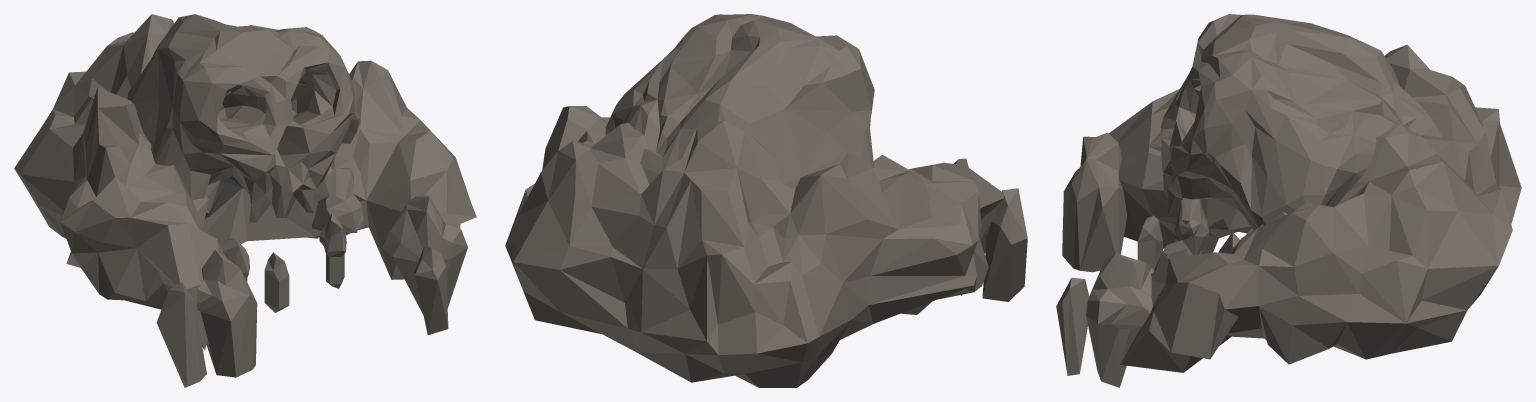
The model's file is SM_Env_Rock_Skull_01.glb.
3 renders of one model, left to right at view 1: azimuth 30°, elevation 25°; view 2: azimuth 150°, elevation 25°; view 3: azimuth 270°, elevation 25°, orthographic. The views are drawn at different scales.
Parts seen in each view (by area): view 1: SM_Env_Rock_Skull_01_part00; view 2: SM_Env_Rock_Skull_01_part00; view 3: SM_Env_Rock_Skull_01_part00.
Boxes of the visible parts, bbox=[...] form: SM_Env_Rock_Skull_01_part00: bbox=[14, 14, 476, 387]; SM_Env_Rock_Skull_01_part00: bbox=[505, 14, 1027, 387]; SM_Env_Rock_Skull_01_part00: bbox=[1056, 14, 1521, 387].
Bounding box in the file's own units: 20.05 × 13.46 × 19.2.
1 material, 1 textured.
